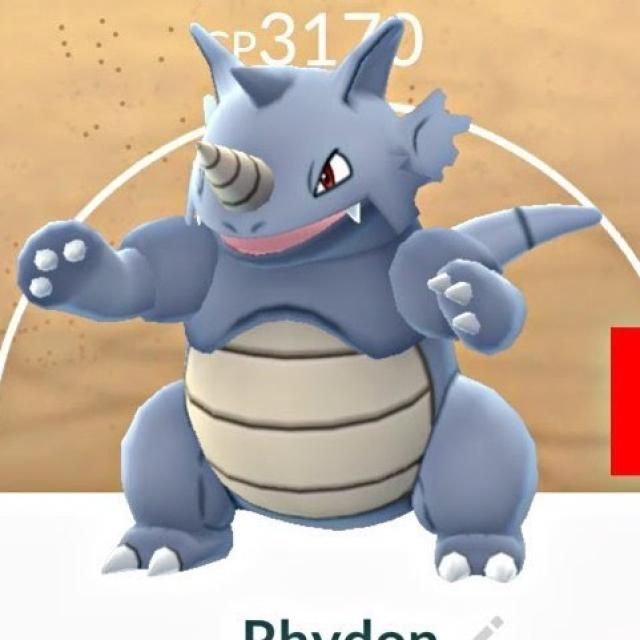Rhydon: (61, 23, 552, 574)
